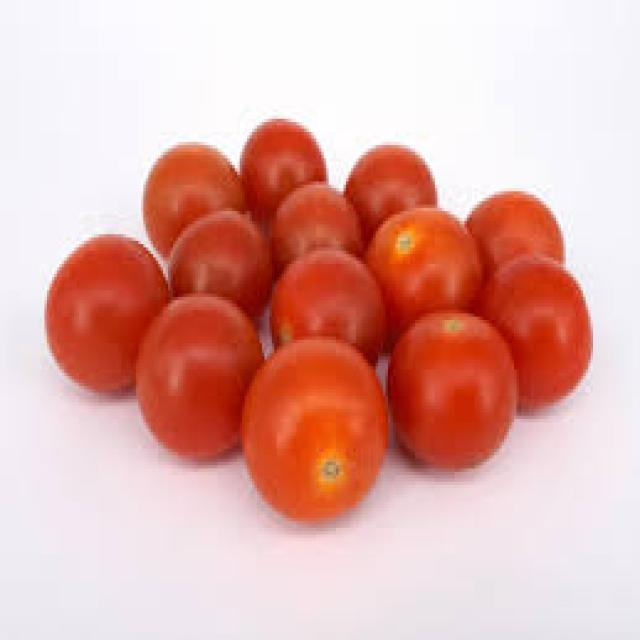Fresh_tomato: (259, 338, 371, 506), (398, 302, 509, 468), (40, 242, 158, 390), (154, 299, 250, 444), (261, 252, 386, 359), (125, 141, 241, 248), (238, 119, 336, 224), (474, 195, 567, 278), (356, 136, 440, 222)
